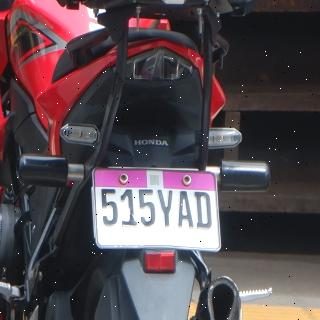license: (93, 169, 222, 252)
